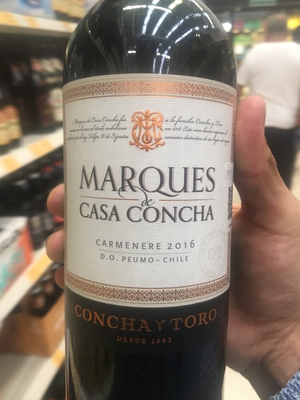marques de casa concha carmenere: (59, 10, 240, 395)
